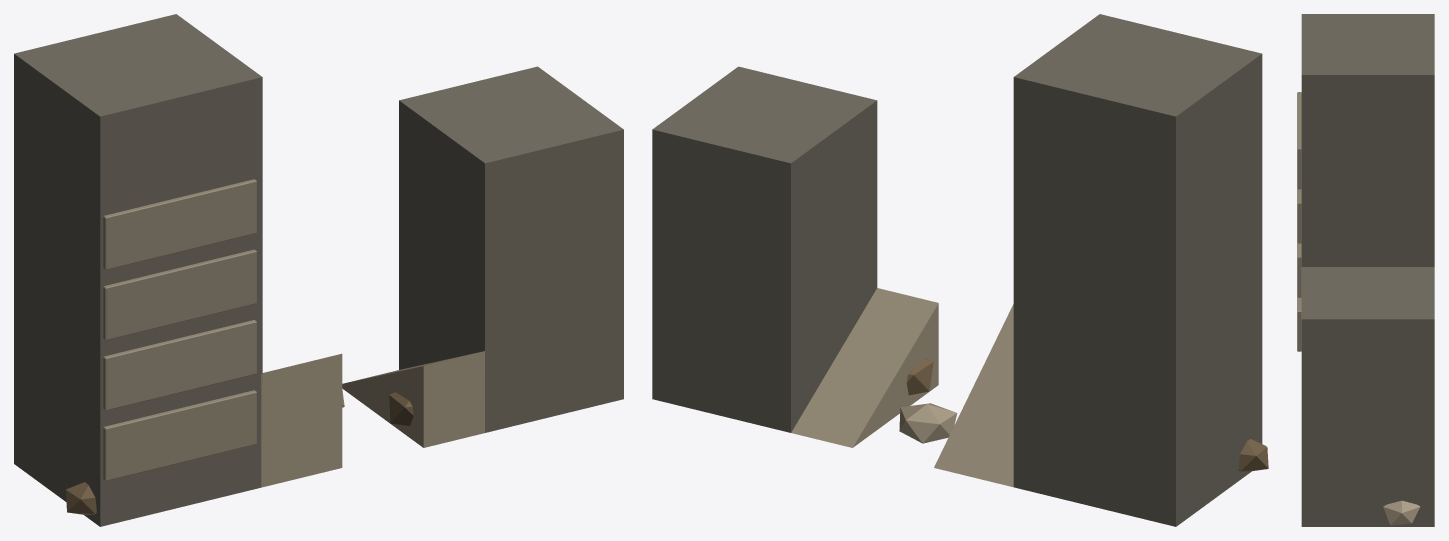
3 views of the same model, side by side, from view 1: azimuth 30°, elevation 25°; view 2: azimuth 150°, elevation 25°; view 3: azimuth 270°, elevation 25° (orthographic). The views are drawn at different scales.
Parts seen in each view (by area): view 1: WK_Stone_A08_RuinWall_Breached4m_LOD1; view 2: WK_Stone_A08_RuinWall_Breached4m_LOD1; view 3: WK_Stone_A08_RuinWall_Breached4m_LOD1.
Part boxes in pixels (x1,y1,x2,y2): WK_Stone_A08_RuinWall_Breached4m_LOD1: (14, 14, 623, 526); WK_Stone_A08_RuinWall_Breached4m_LOD1: (652, 14, 1268, 526); WK_Stone_A08_RuinWall_Breached4m_LOD1: (1297, 14, 1434, 526).
Bounding box in the file's own units: 4 × 2.8 × 1.1.
